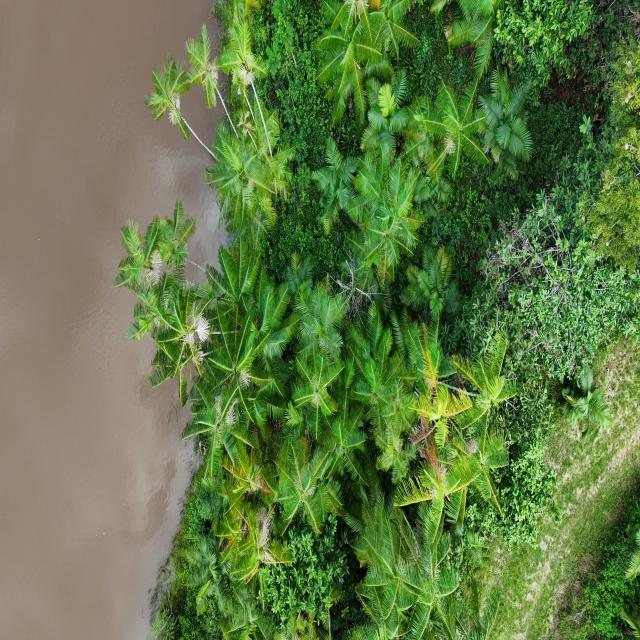vegetation: (112, 1, 638, 638)
